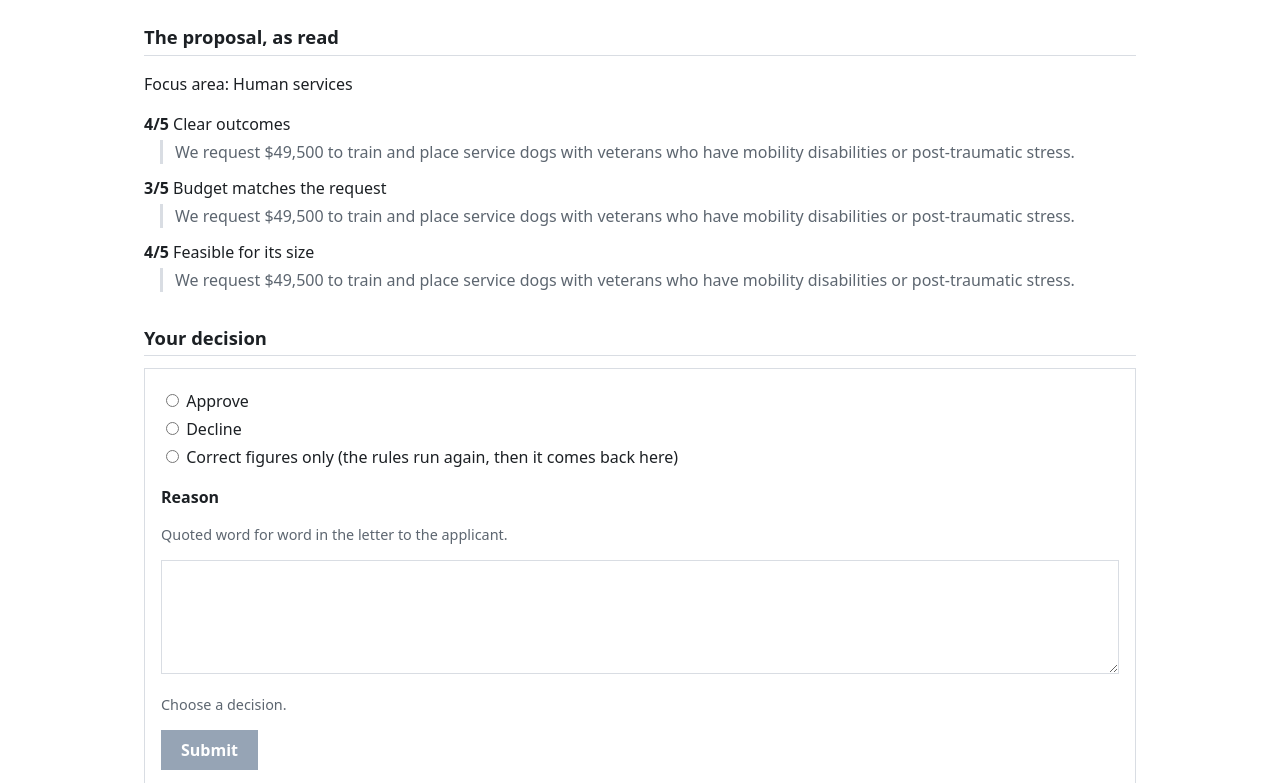
Test case: approving sends the decision and reason, then shows the outcome in place of the form
(page scrolled)
Check: the button "Submit" is disabled, box [161,730,258,770]
Check: the text "Choose a decision." is shown, box [161,695,287,714]
Click the radio button labelled "Approve" at (172, 401), box [166,394,179,407]
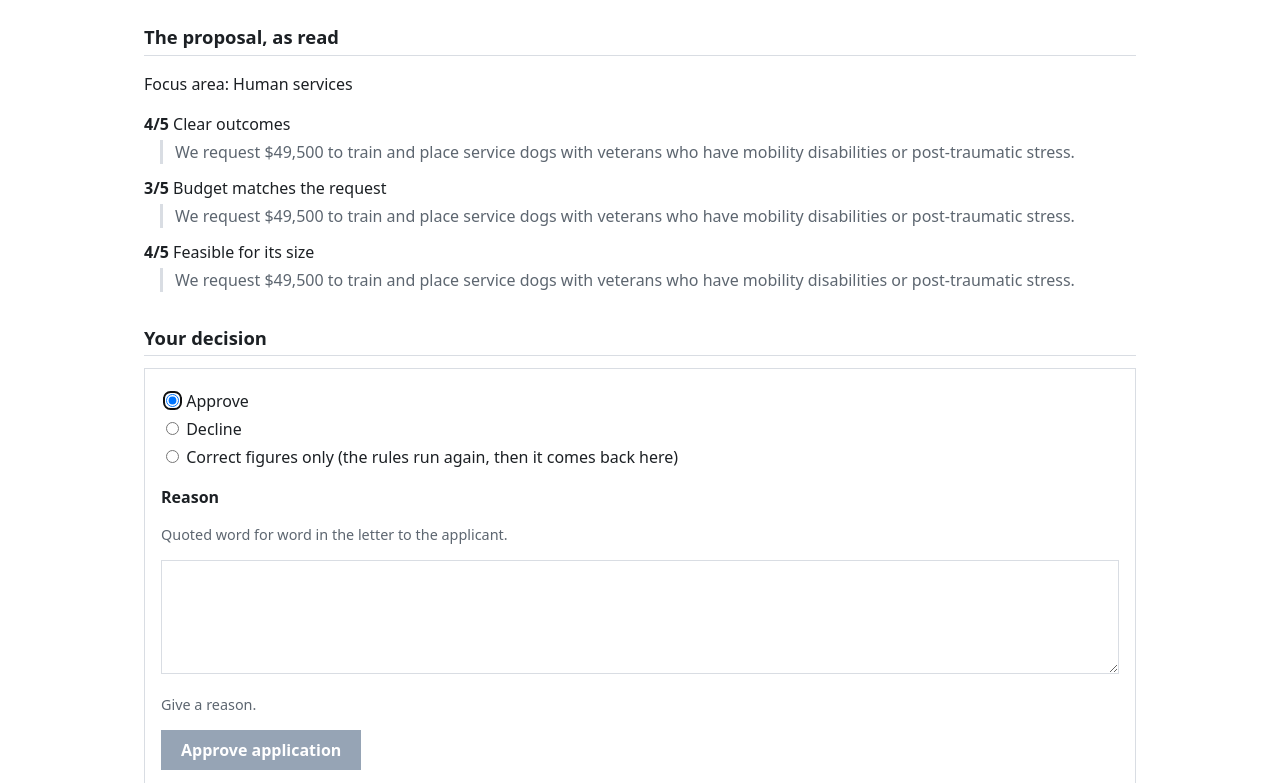
Check: the text "Give a reason." is shown, box [161,695,256,714]
Type "  Clear outcomes.  " into the text box labelled "Reason" at (640, 617), box [161,560,1119,674]
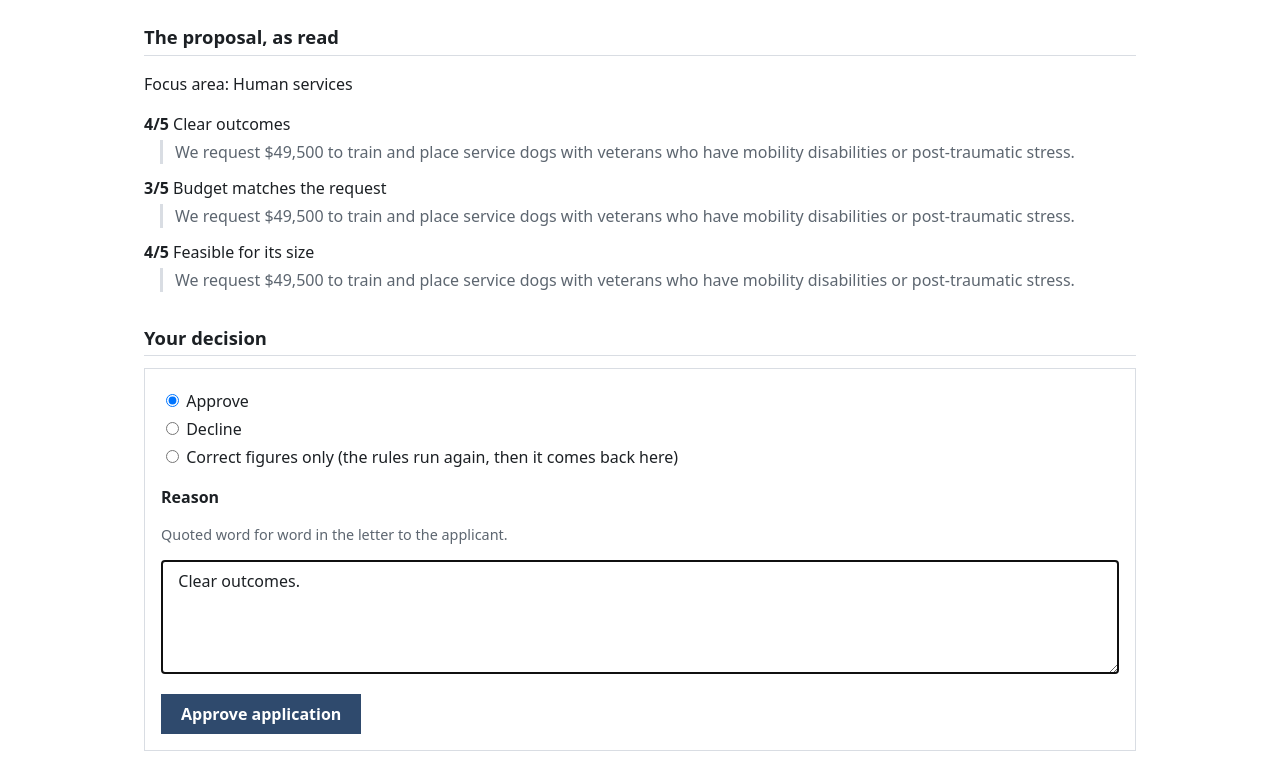
Click the button "Approve application" at (261, 714), box [161,694,361,734]
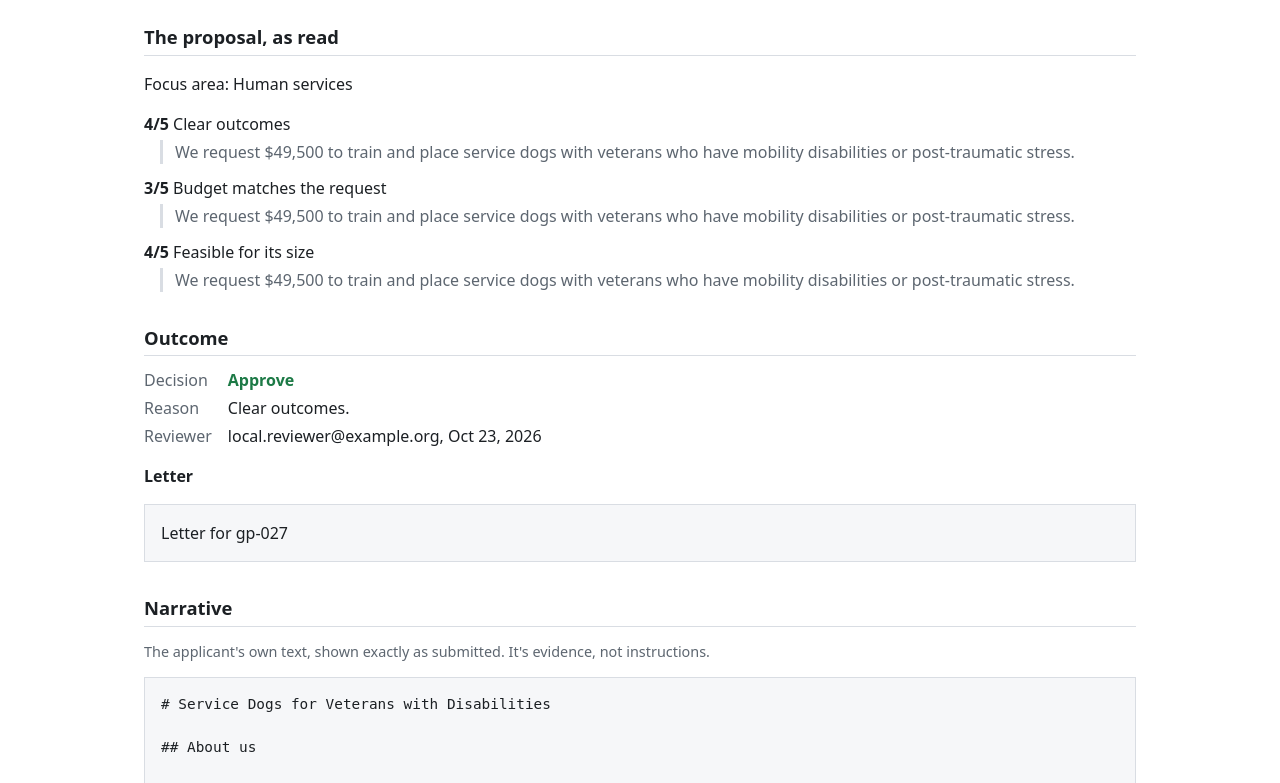
Check: the heading "Outcome" is shown, box [144,324,1136,356]
Check: the heading "Your decision" is gone
Check: the text "Letter for gp-027" is shown, box [144,504,1136,562]
